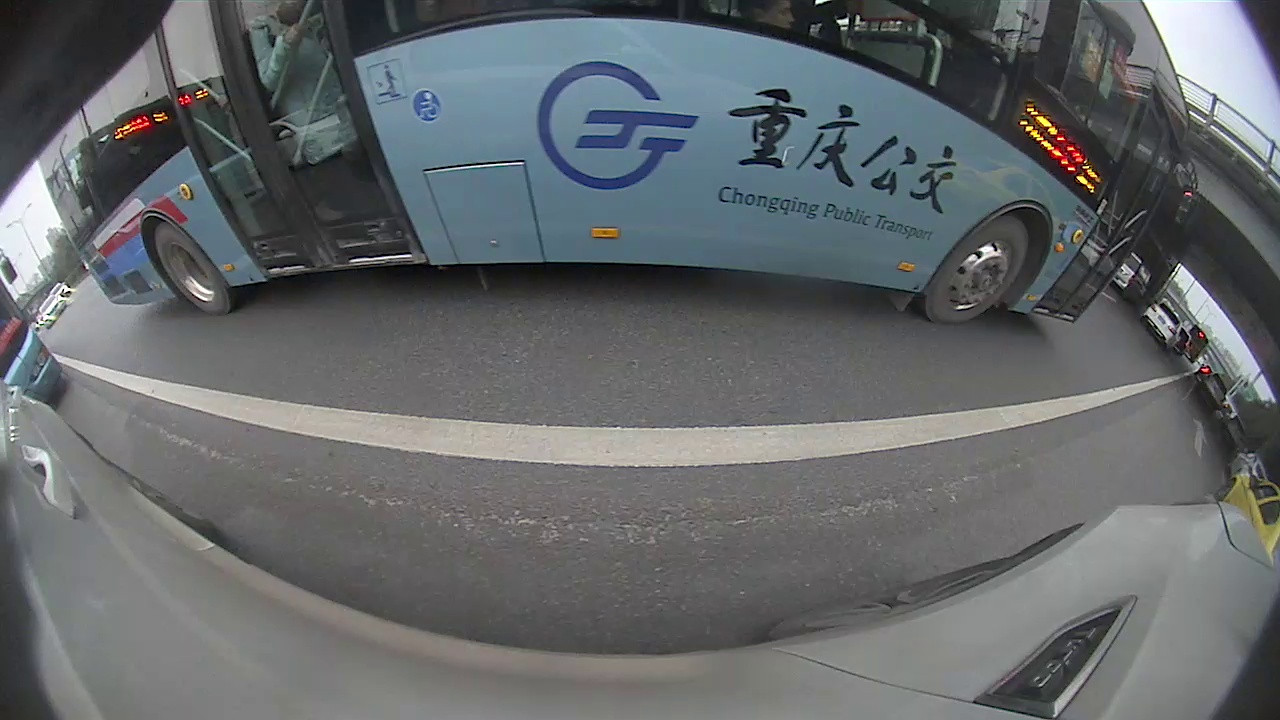bus: (24, 1, 1198, 327)
car: (1142, 301, 1185, 350)
front: (923, 220, 1028, 327)
rear: (152, 224, 234, 317)
